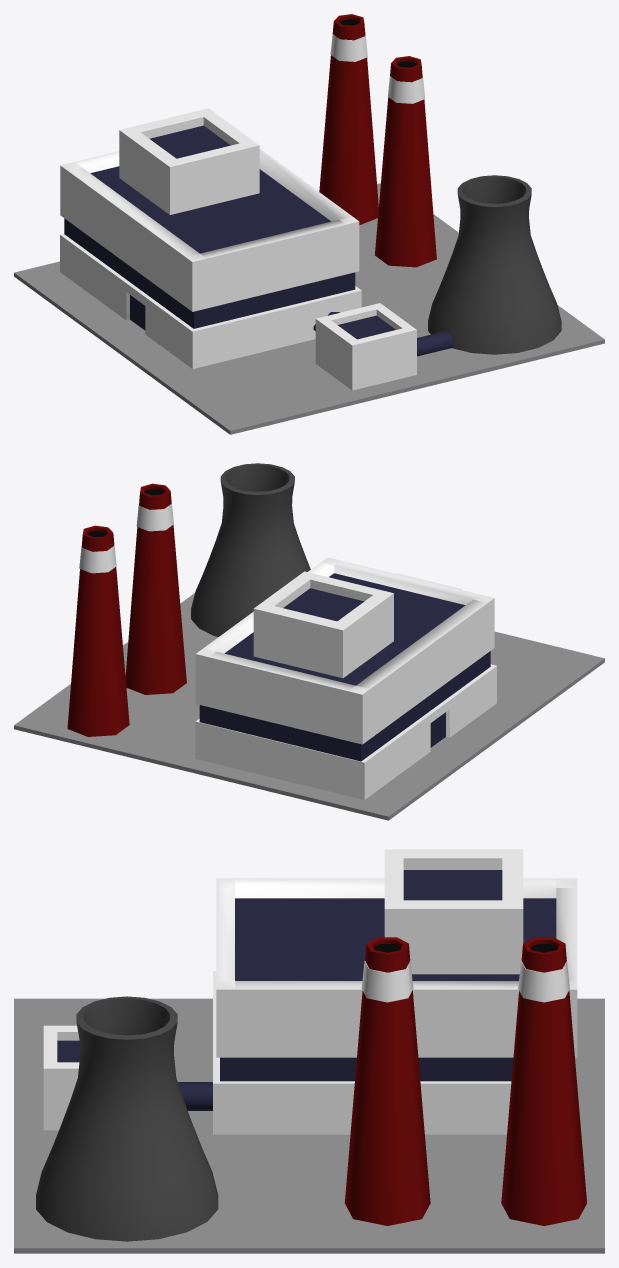
Rendered from Fabryka III.FBX.
3 views of the same model, one above another, from view 1: azimuth 30°, elevation 25°; view 2: azimuth 150°, elevation 25°; view 3: azimuth 270°, elevation 25° (orthographic). The views are drawn at different scales.
Visible parts, largest first — view 1: Plane001, Box004, Cylinder001, Box001, Box002, Box031, Cylinder006, Cylinder002, Box032, Box030, Cylinder005, Cylinder008 (+2 smaller); view 2: Plane001, Box004, Cylinder001, Box002, Box001, Box031, Cylinder002, Cylinder006, Box030, Cylinder005, Cylinder008; view 3: Plane001, Cylinder001, Box004, Box001, Cylinder002, Cylinder006, Box031, Box002, Box030, Box032, Cylinder005, Cylinder008 (+1 smaller).
Part boxes in pixels (bbox=[...]): Plane001: bbox=[14, 183, 604, 434]; Box004: bbox=[60, 149, 359, 311]; Cylinder001: bbox=[428, 175, 561, 354]; Box001: bbox=[64, 166, 355, 330]; Box002: bbox=[60, 234, 361, 368]; Box031: bbox=[119, 108, 259, 214]; Cylinder006: bbox=[375, 56, 436, 267]; Cylinder002: bbox=[319, 14, 378, 225]; Box032: bbox=[315, 303, 416, 390]; Box030: bbox=[149, 125, 230, 158]; Cylinder005: bbox=[330, 34, 367, 61]; Cylinder008: bbox=[388, 74, 425, 103]; Plane001: bbox=[14, 593, 604, 820]; Box004: bbox=[195, 557, 494, 744]; Cylinder001: bbox=[191, 463, 310, 636]; Box002: bbox=[195, 664, 496, 799]; Box001: bbox=[199, 573, 490, 761]; Box031: bbox=[253, 571, 393, 678]; Cylinder002: bbox=[67, 525, 129, 736]; Cylinder006: bbox=[125, 483, 186, 694]; Box030: bbox=[283, 588, 364, 621]; Cylinder005: bbox=[79, 545, 116, 573]; Cylinder008: bbox=[136, 503, 173, 531]; Plane001: bbox=[14, 998, 604, 1253]; Cylinder001: bbox=[36, 996, 218, 1241]; Box004: bbox=[216, 878, 577, 1057]; Box001: bbox=[220, 898, 556, 1081]; Cylinder002: bbox=[501, 937, 586, 1225]; Cylinder006: bbox=[344, 937, 430, 1225]; Box031: bbox=[384, 849, 523, 974]; Box002: bbox=[213, 971, 511, 1134]; Box030: bbox=[403, 870, 502, 900]; Box032: bbox=[43, 1025, 79, 1130]; Cylinder005: bbox=[518, 961, 569, 1002]; Cylinder008: bbox=[361, 961, 413, 1002].
Size of the model in its own units: 2 by 1.01 by 2.
